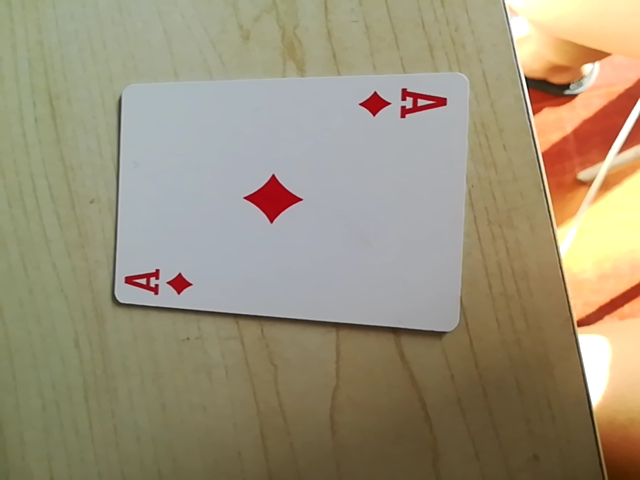fk a: (358, 84, 453, 125), (118, 262, 198, 302)
